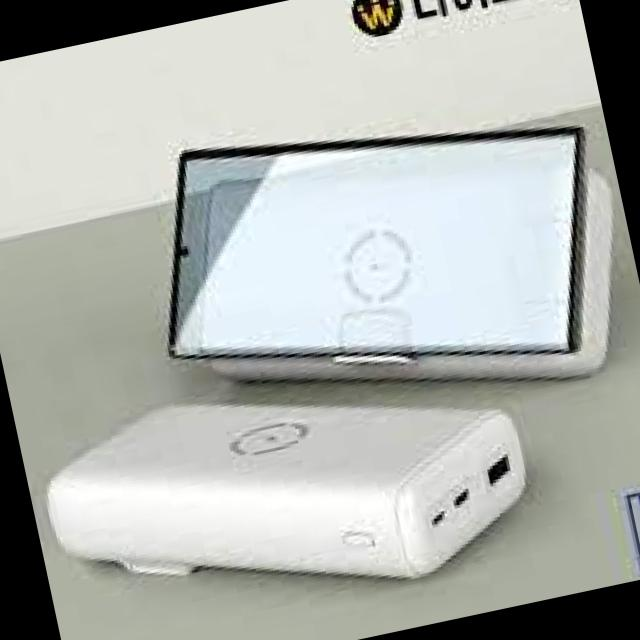portable-charger: (18, 330, 551, 640)
